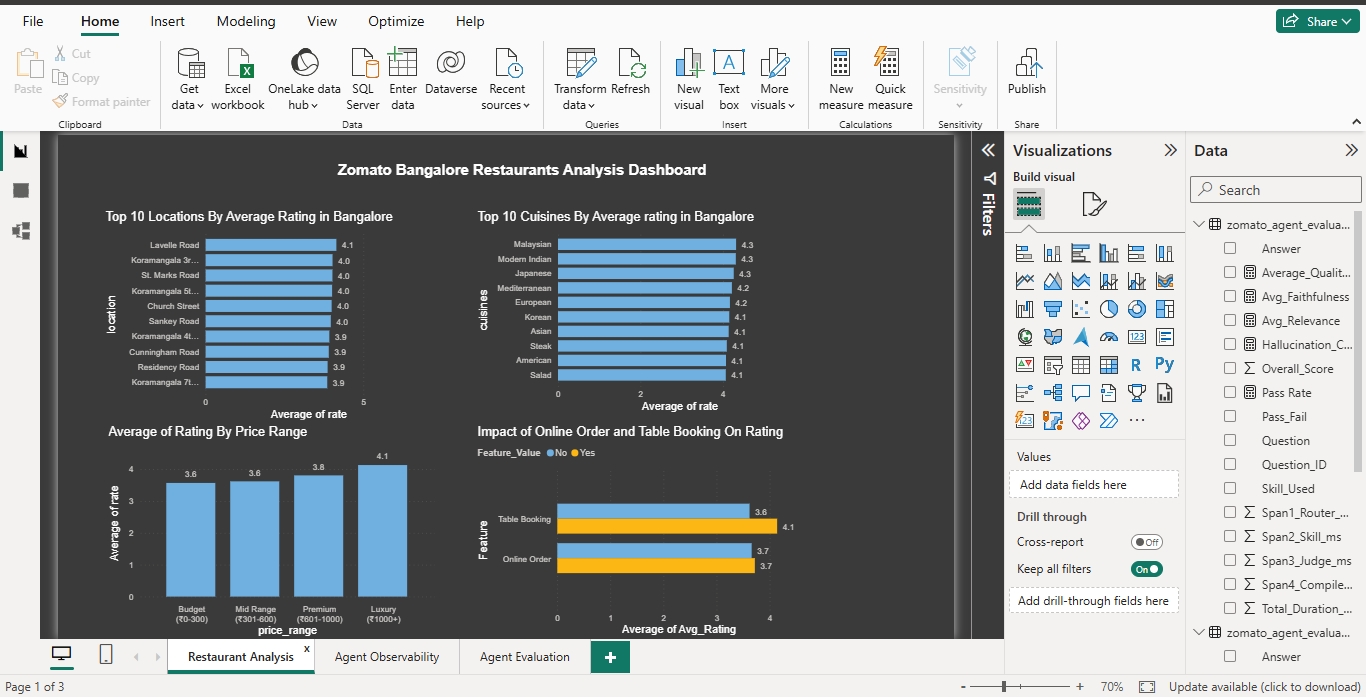

Layout of this report page (visuals, bound fields, positions):
{"tool":"powerbi","page":{"name":"Restaurant Analysis","canvas":[1280,720],"ordinal":0},"visuals":[{"type":"clusteredBarChart","title":"Top 10 Locations By Average Rating in Bangalore","fields":{"Category":["zomato_cleaned.location"],"Y":["Avg(zomato_cleaned.rate)"]},"box":[62.4,106.3,452.1,306.1],"z":0},{"type":"clusteredBarChart","title":"Top 10 Cuisines By Average rating in Bangalore","fields":{"Category":["zomato_cuisines.cuisines"],"Y":["Avg(zomato_cuisines.rate)"]},"box":[593.9,106.3,477.6,294.8],"z":1000},{"type":"clusteredColumnChart","title":"Average of Rating By Price Range","fields":{"Category":["zomato_cleaned_v2.price_range"],"Y":["Avg(zomato_cleaned_v2.rate)"]},"box":[66.6,412.4,476.2,307.6],"z":2000},{"type":"clusteredBarChart","title":"Impact of Online Order and Table Booking On Rating","fields":{"Category":["zomato_features.Feature"],"Y":["Avg(zomato_features.Avg_Rating)"],"Series":["zomato_features.Feature_Value"]},"box":[593.9,412.4,476.2,307.6],"z":3000},{"type":"textbox","box":[1001.5,105.7,278.5,80.5],"z":4000},{"type":"textbox","box":[305.3,33.6,686.1,57],"z":5000}]}

Visuals, with their boxes on the page's 1280x720 design canvas (x1, y1, x2, y2). These are canvas units, not pixel positions in the 1366x697 screenshot, which may show the page scaled, cropped or inside an application window:
"Top 10 Locations By Average Rating in Bangalore" clusteredBarChart: box(62, 106, 514, 412)
"Top 10 Cuisines By Average rating in Bangalore" clusteredBarChart: box(594, 106, 1072, 401)
"Average of Rating By Price Range" clusteredColumnChart: box(67, 412, 543, 720)
"Impact of Online Order and Table Booking On Rating" clusteredBarChart: box(594, 412, 1070, 720)
textbox: box(1002, 106, 1280, 186)
textbox: box(305, 34, 991, 91)
